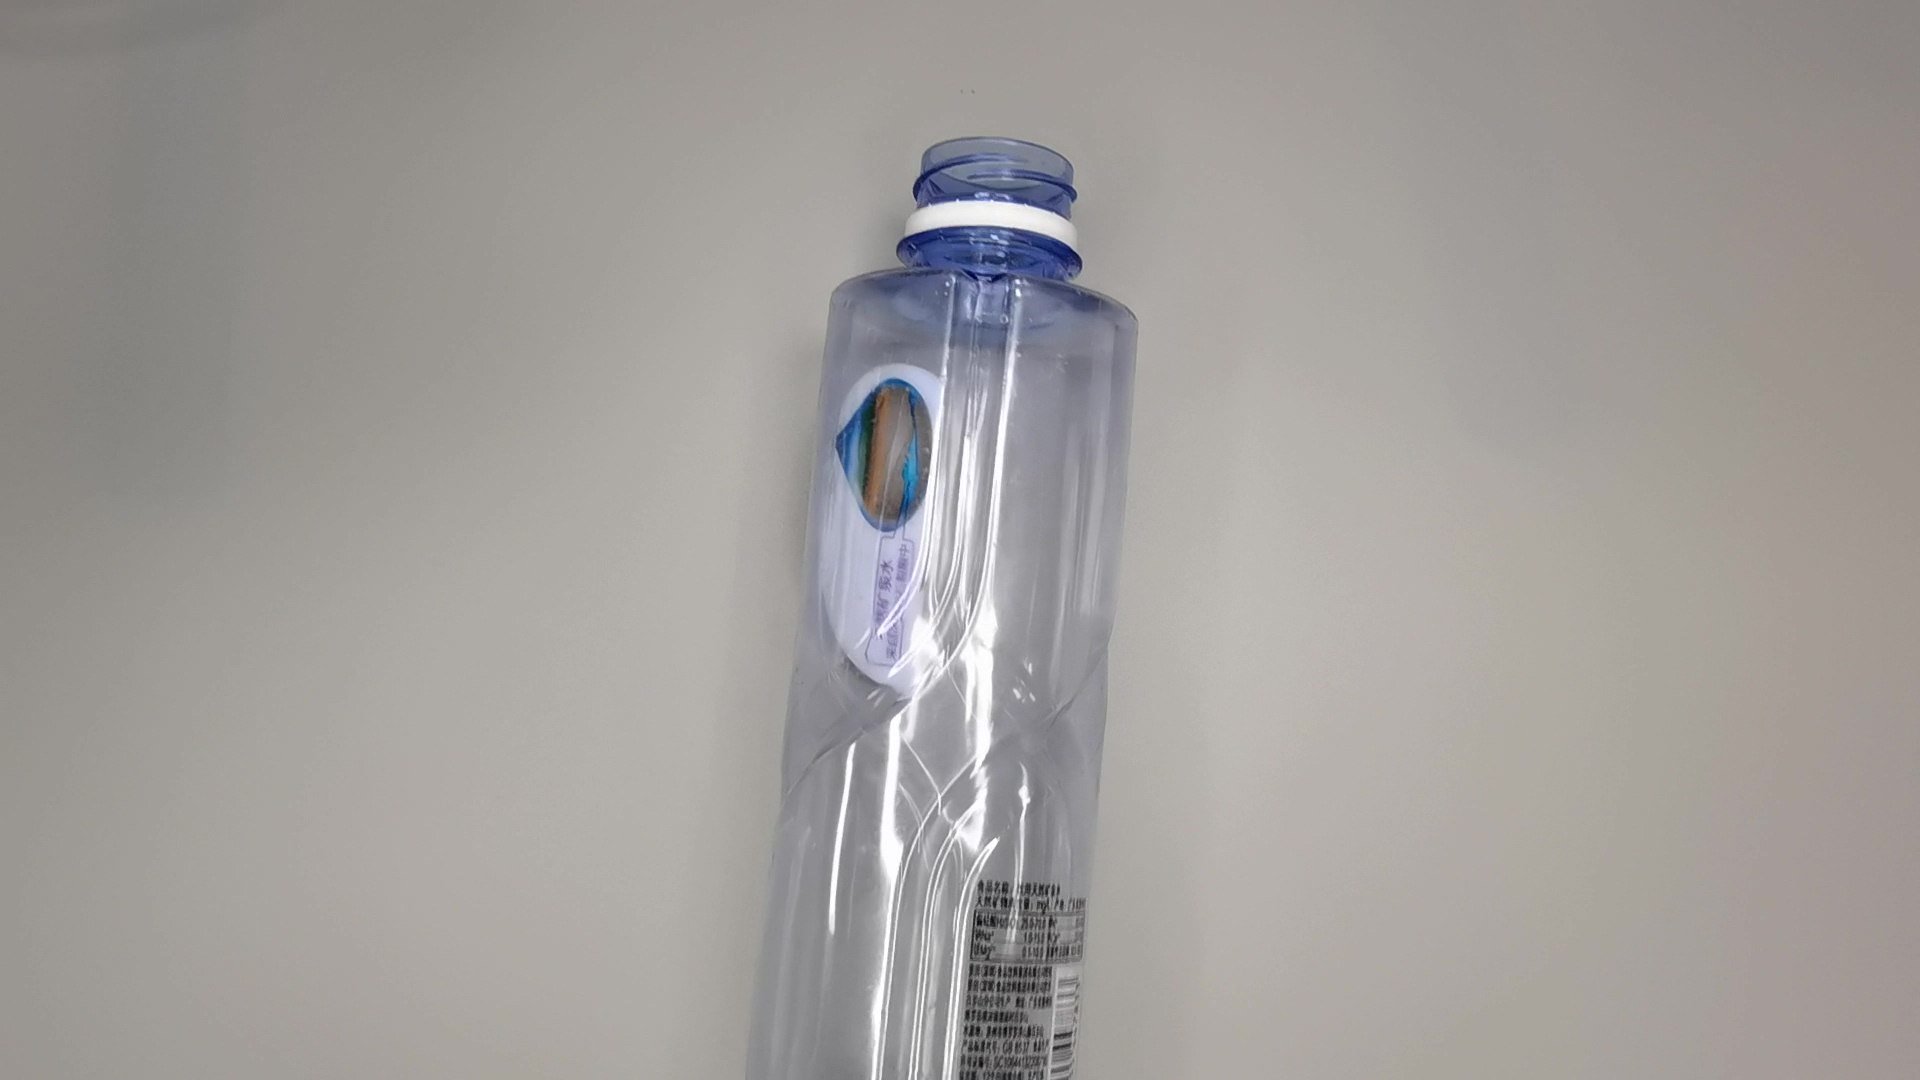bottle: (731, 127, 1145, 1080)
